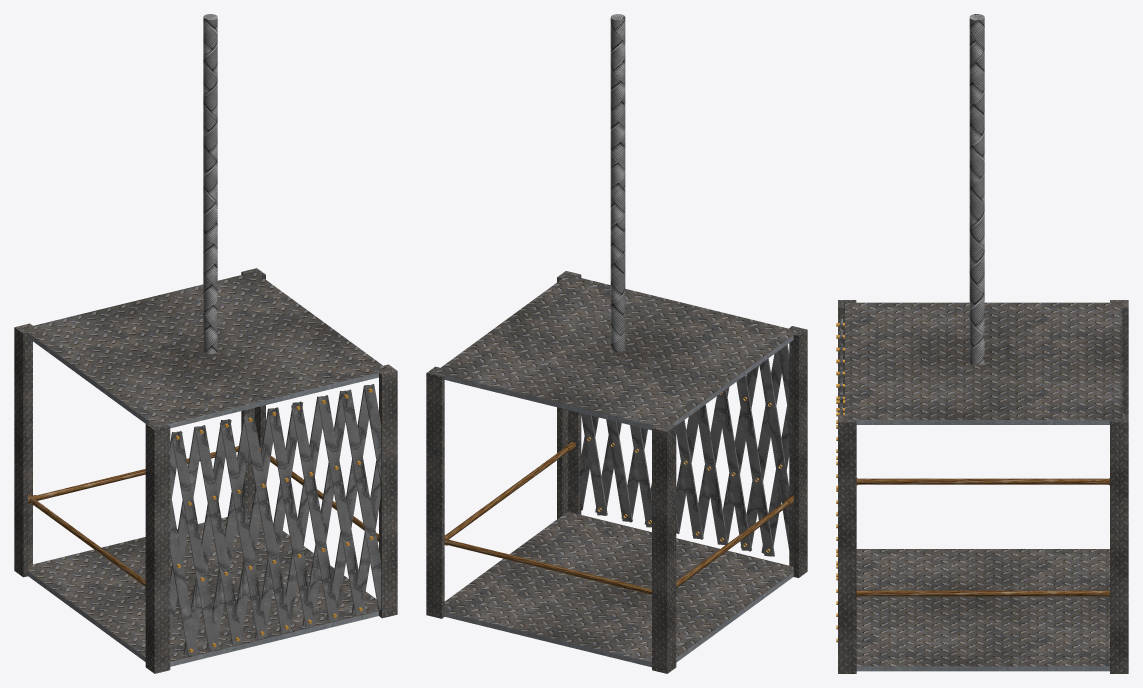
File: old_elevator.glb
3 renders of one model, left to right at view 1: azimuth 30°, elevation 25°; view 2: azimuth 150°, elevation 25°; view 3: azimuth 270°, elevation 25°, orthographic. The views are drawn at different scales.
Parts seen in each view (by area): view 1: Base; view 2: Base; view 3: Base.
Part boxes in pixels (<box>): Base: <box>14,14,397,673</box>; Base: <box>426,14,807,673</box>; Base: <box>836,14,1128,673</box>.
Bounding box in the file's own units: 157 × 356 × 158.
1 material, 1 textured.
